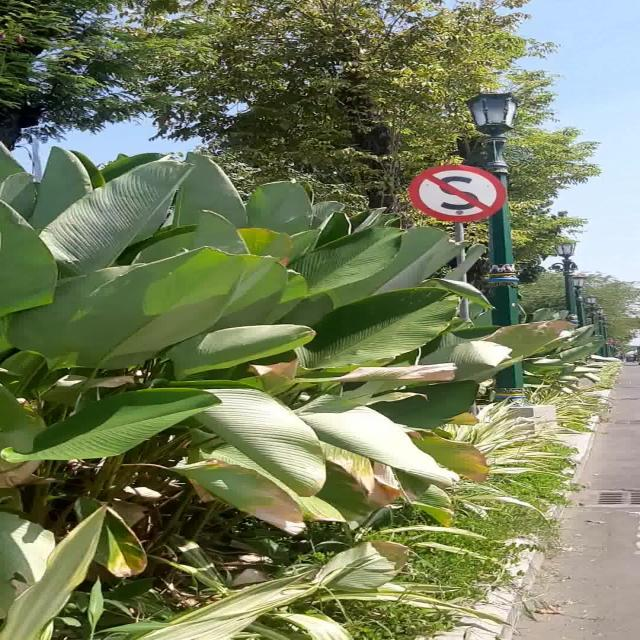Dilarang Berhenti: (409, 166, 506, 222)
